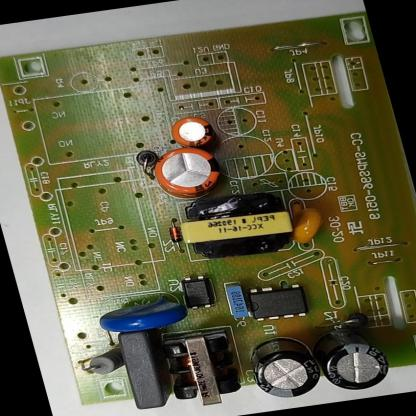Cap1: (144, 141, 229, 204)
Cap2: (160, 111, 225, 155)
Cap3: (239, 327, 336, 406)
Cap4: (300, 314, 397, 396)
MOSFET: (240, 276, 318, 327)
Mov: (88, 292, 191, 338)
Resistor: (77, 346, 132, 380)
Transformer: (172, 185, 299, 265), (152, 324, 253, 415)
